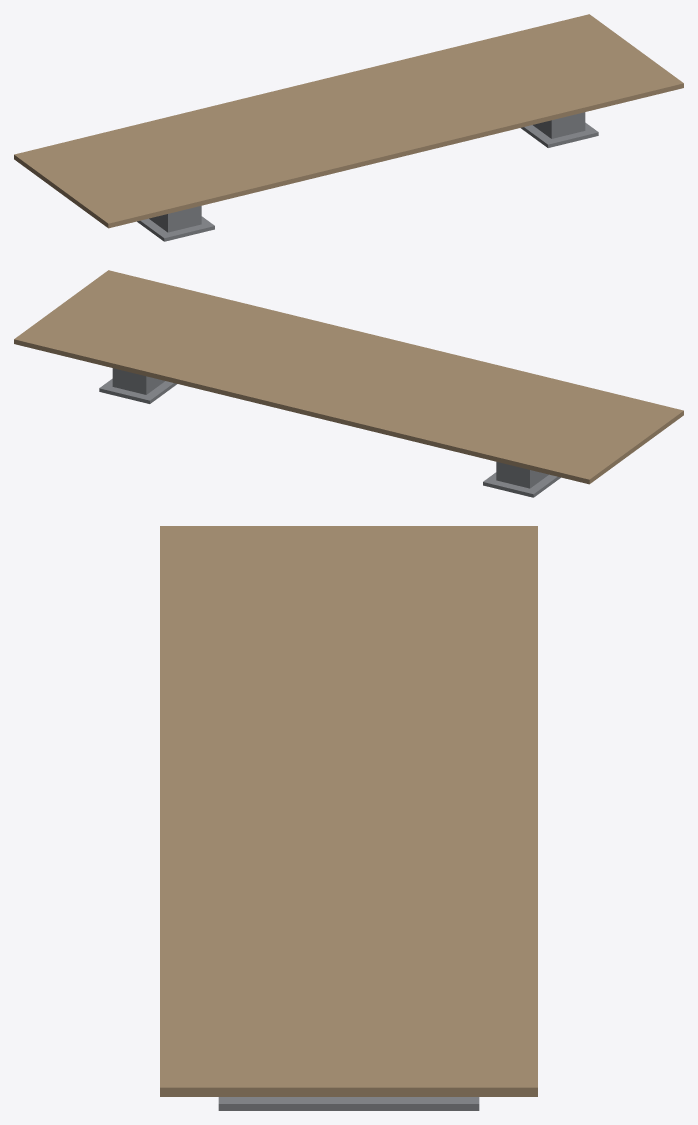
The model's file is board-table.glb.
3 views of the same model, one above another, from view 1: azimuth 30°, elevation 25°; view 2: azimuth 150°, elevation 25°; view 3: azimuth 270°, elevation 25° (orthographic). The views are drawn at different scales.
Visible parts, largest first — view 1: BoardTable; view 2: BoardTable; view 3: BoardTable.
Part boxes in pixels (left/top/right/bottom): BoardTable: left=14, top=14, right=683, bottom=241; BoardTable: left=14, top=270, right=683, bottom=497; BoardTable: left=160, top=526, right=537, bottom=1110.
Size of the model in its own units: 10.2 by 0.78 by 2.9.
